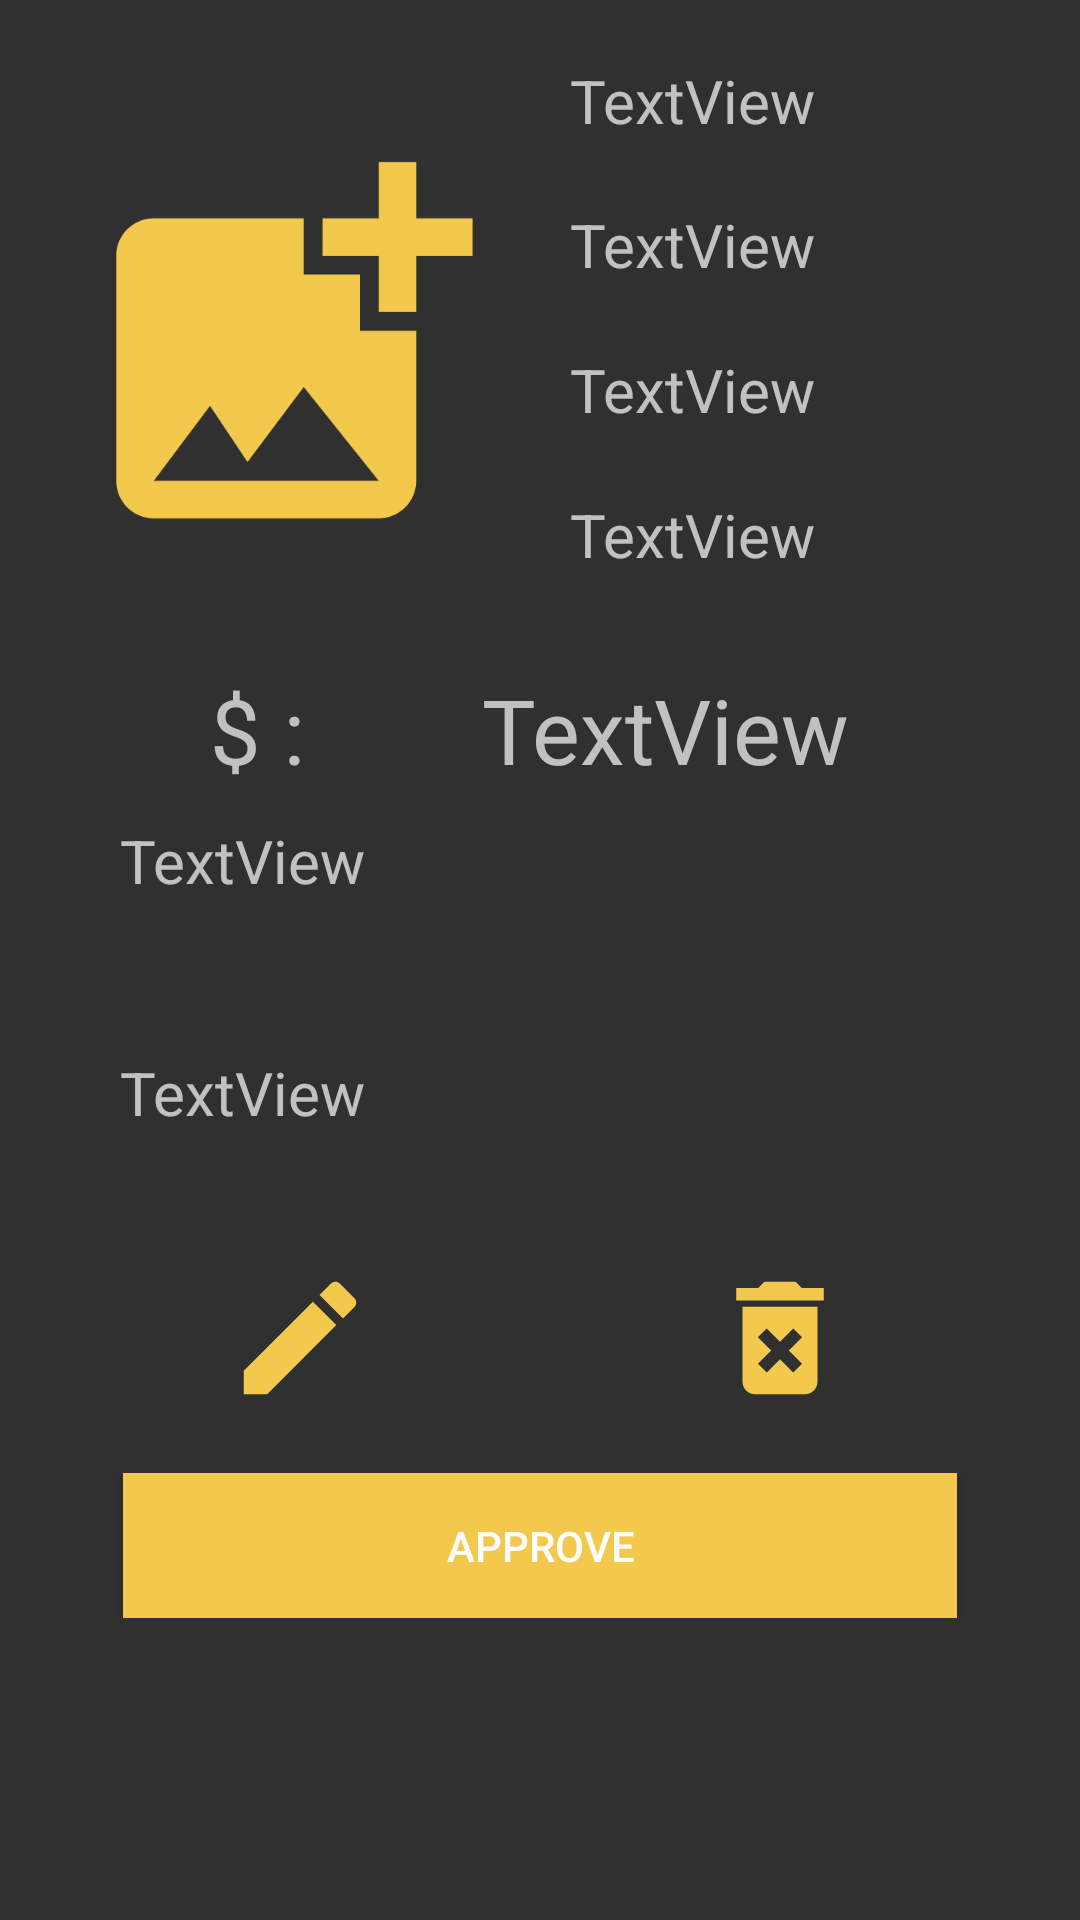

Point at icon controls on the screen. Image size 1080*1920, points as [x,y].
add photo alternate: [294,340]
delete forever: [780,1338]
edit: [300,1338]
